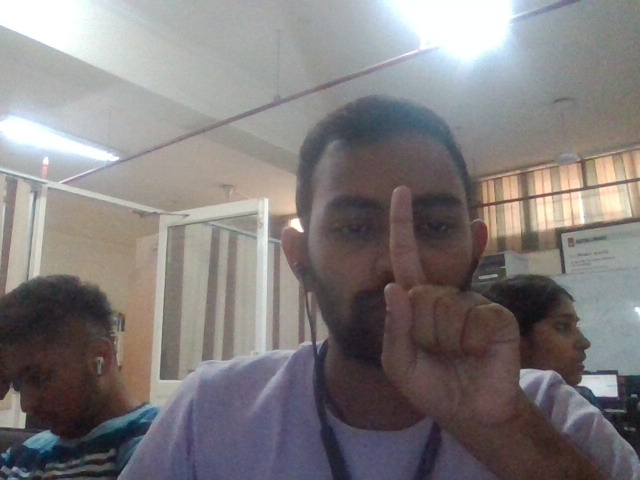Present: (378, 186, 520, 439)
